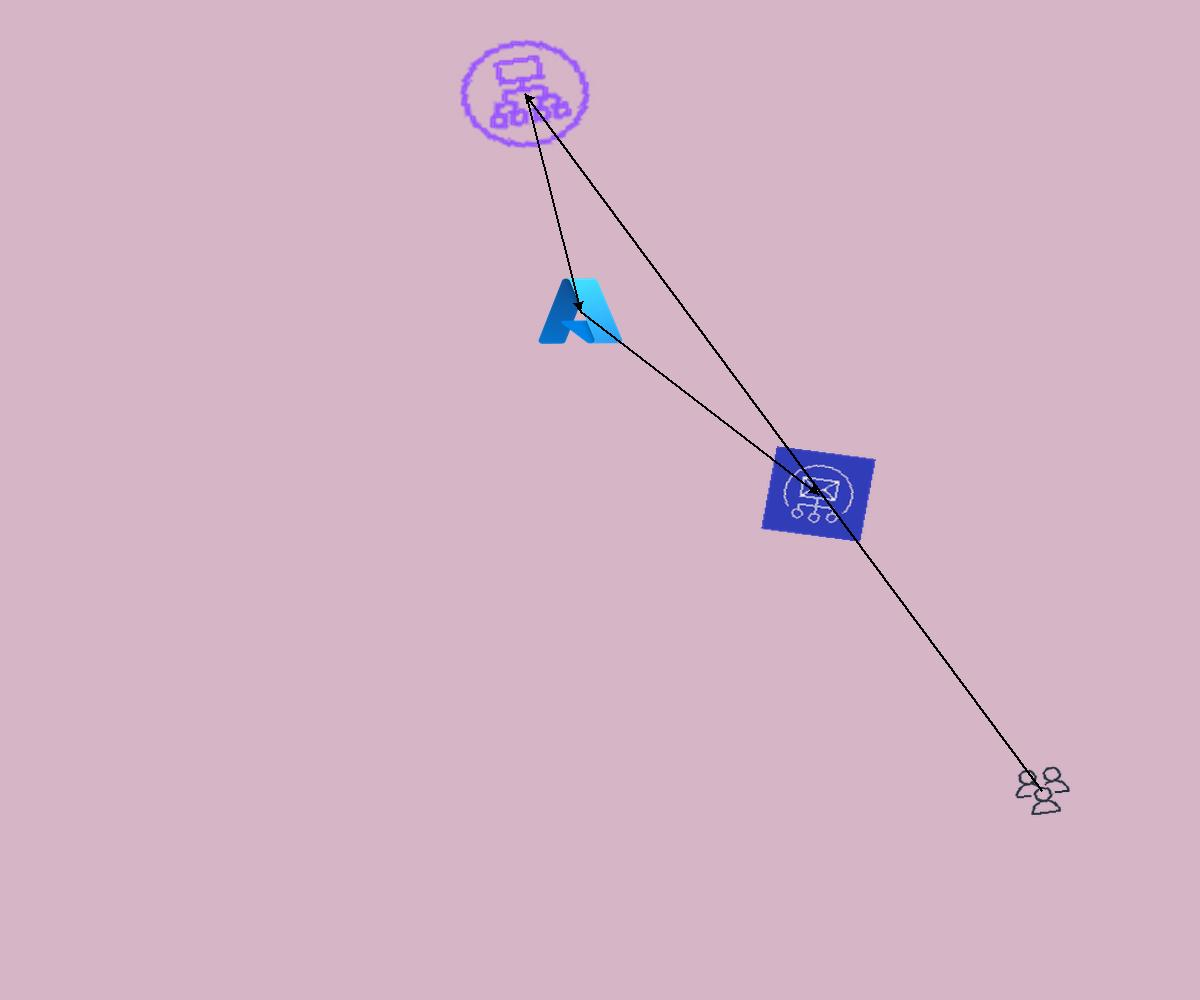AWS-Res_Elastic-Load-Balancing_Application-Load-Balancer: (441, 24, 609, 164)
AWS-Res_Users: (1008, 762, 1077, 820)
AWS-Simple-Email-Service: (761, 446, 876, 542)
Azure_services: (534, 273, 626, 349)
